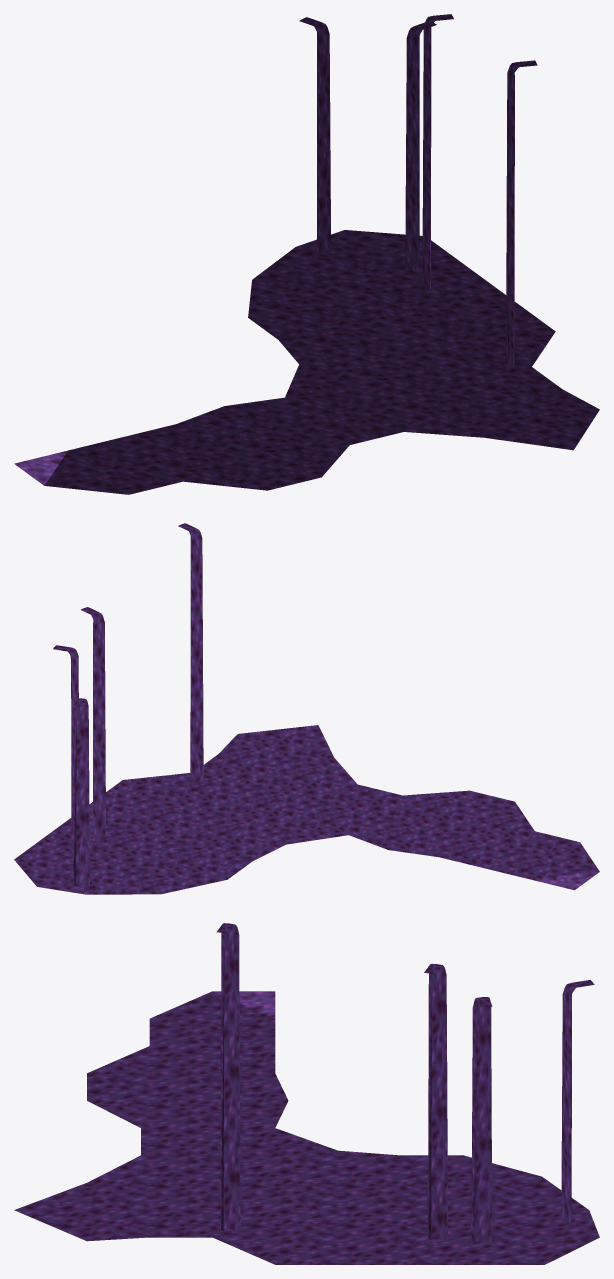
File: stg410_MotWater_16.obj
The picture shows the model from 3 angles, top to bottom: view 1: azimuth 30°, elevation 25°; view 2: azimuth 150°, elevation 25°; view 3: azimuth 270°, elevation 25°; orthographic projection. The views are drawn at different scales.
Parts seen in each view (by area): view 1: polygon4, polygon1, polygon2, polygon3, polygon0; view 2: polygon4, polygon3, polygon2, polygon0, polygon1; view 3: polygon4, polygon3, polygon0, polygon1, polygon2.
Part boxes in pixels (x1,y1,x2,y2): polygon4: (14,230,599,494); polygon1: (405,22,436,272); polygon2: (299,17,330,254); polygon3: (506,60,537,367); polygon0: (422,14,453,290); polygon4: (14,725,599,894); polygon3: (178,523,203,782); polygon2: (73,698,89,885); polygon0: (81,607,105,840); polygon1: (53,645,78,852); polygon4: (14,991,599,1264); polygon3: (216,923,240,1232); polygon0: (424,963,448,1241); polygon1: (471,997,492,1244); polygon2: (561,980,594,1222).
Bounding box in the file's own units: 1879 × 991 × 1701.
2 materials, 2 textured.
